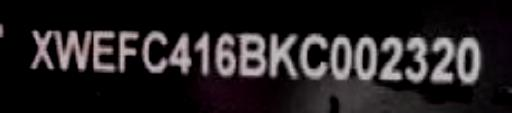letter: (51, 27, 93, 74), (264, 28, 300, 81), (296, 30, 330, 81), (236, 30, 268, 81), (454, 33, 484, 86), (167, 28, 195, 79), (211, 30, 239, 81), (430, 35, 458, 86), (140, 29, 170, 76), (327, 32, 353, 83), (376, 33, 404, 80), (351, 34, 379, 81), (403, 35, 431, 82), (91, 29, 119, 74), (116, 29, 142, 76), (191, 28, 213, 79), (29, 26, 55, 69)
